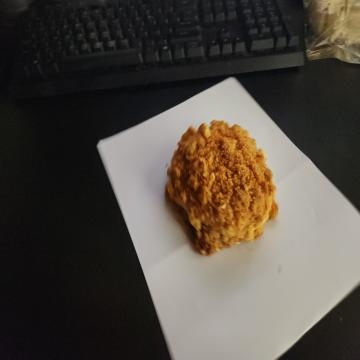soboru_bread: (166, 119, 280, 261)
